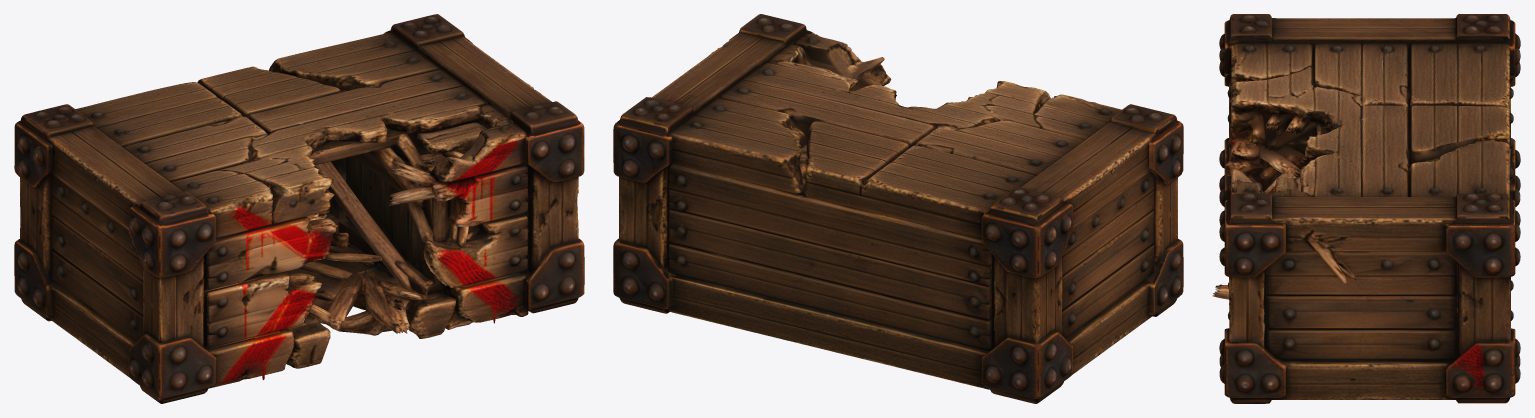
File: destroyed.glb
The picture shows the model from 3 angles, left to right: view 1: azimuth 30°, elevation 25°; view 2: azimuth 150°, elevation 25°; view 3: azimuth 270°, elevation 25°; orthographic projection.
Visible parts, largest first — view 1: Mesh_0; view 2: Mesh_0; view 3: Mesh_0.
Part boxes in pixels (box(x1,y1,x2,y2)): Mesh_0: box(14, 14, 584, 403); Mesh_0: box(613, 14, 1183, 403); Mesh_0: box(1212, 14, 1520, 403).
Bounding box in the file's own units: 1 × 0.4245 × 0.6153.
Materials: 1 (1 with a texture image).
